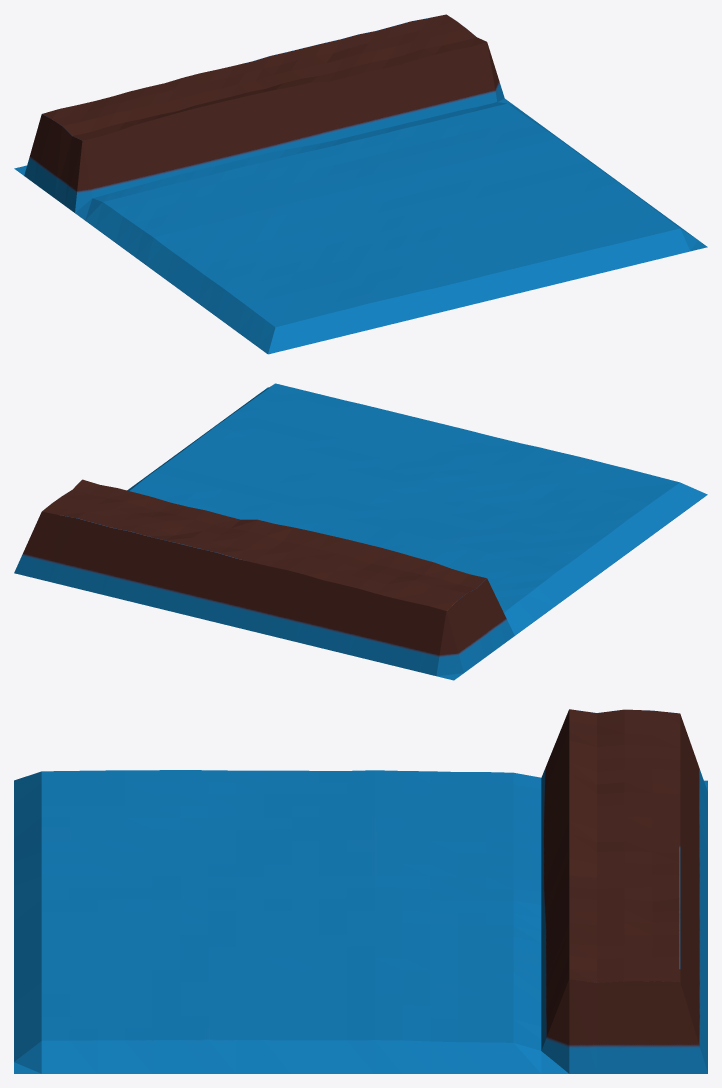
File: Tile8.fbx
The picture shows the model from 3 angles, top to bottom: view 1: azimuth 30°, elevation 25°; view 2: azimuth 150°, elevation 25°; view 3: azimuth 270°, elevation 25°; orthographic projection. The views are drawn at different scales.
Visible parts, largest first — view 1: ImageToStl.com_8; view 2: ImageToStl.com_8; view 3: ImageToStl.com_8.
Boxes of the visible parts, <box> form: ImageToStl.com_8: <box>14,14,707,354</box>; ImageToStl.com_8: <box>14,383,707,680</box>; ImageToStl.com_8: <box>14,709,707,1073</box>.
Bounding box in the file's own units: 10417 × 1482 × 10417.
1 material, 1 textured.
